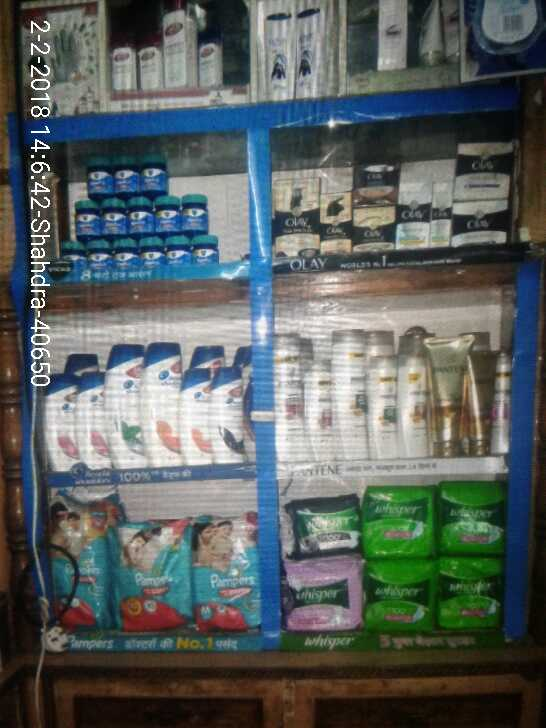vicks: (61, 149, 221, 261)
